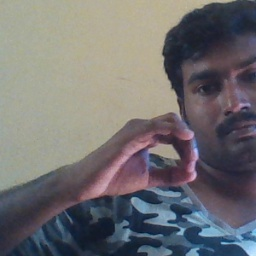O: (83, 109, 202, 199)
